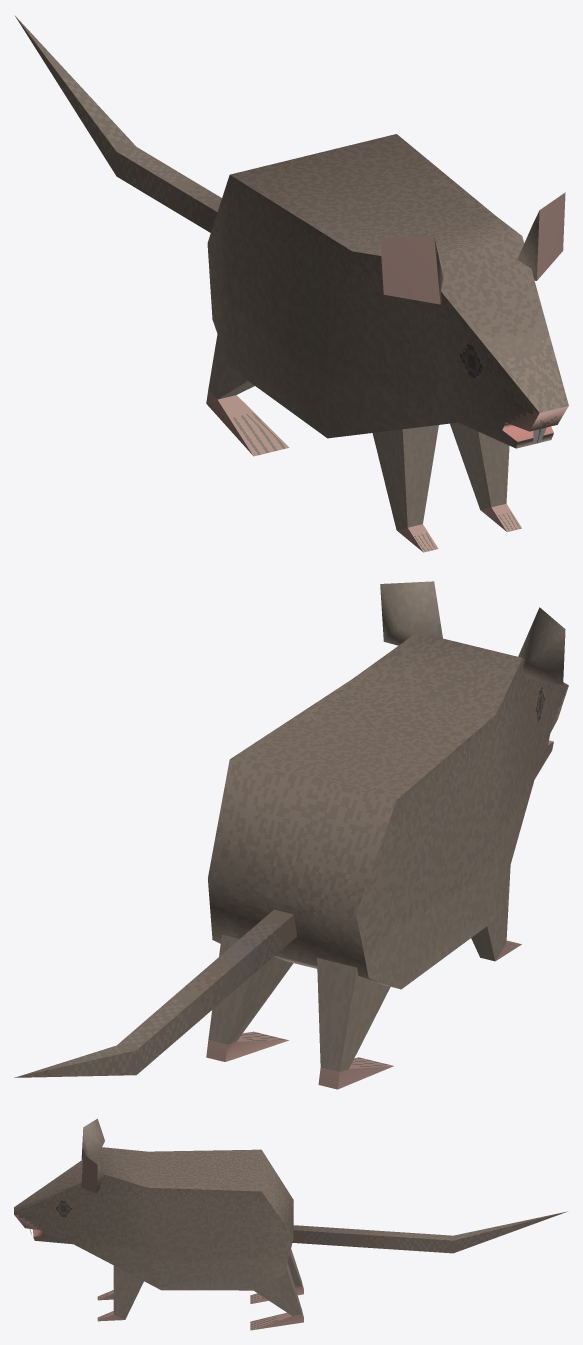
The model's file is 01ff_Rat.glb.
The picture shows the model from 3 angles, top to bottom: view 1: azimuth 30°, elevation 25°; view 2: azimuth 150°, elevation 25°; view 3: azimuth 270°, elevation 25°; orthographic projection. The views are drawn at different scales.
Visible parts, largest first — view 1: part_0; view 2: part_0; view 3: part_0.
Boxes of the visible parts, <box> form: part_0: <box>15,16,568,552</box>; part_0: <box>14,581,568,1089</box>; part_0: <box>14,1118,567,1330</box>.
Bounding box in the file's own units: 0.0361 × 0.0623 × 0.182.
1 material, 1 textured.
